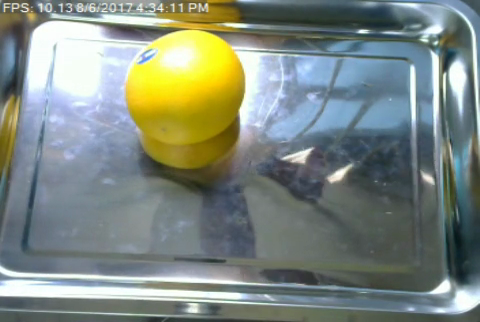Orange: (126, 29, 247, 144)
